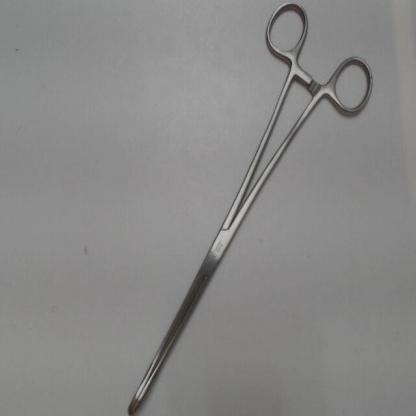Sponge Forceps: (124, 0, 378, 415)
